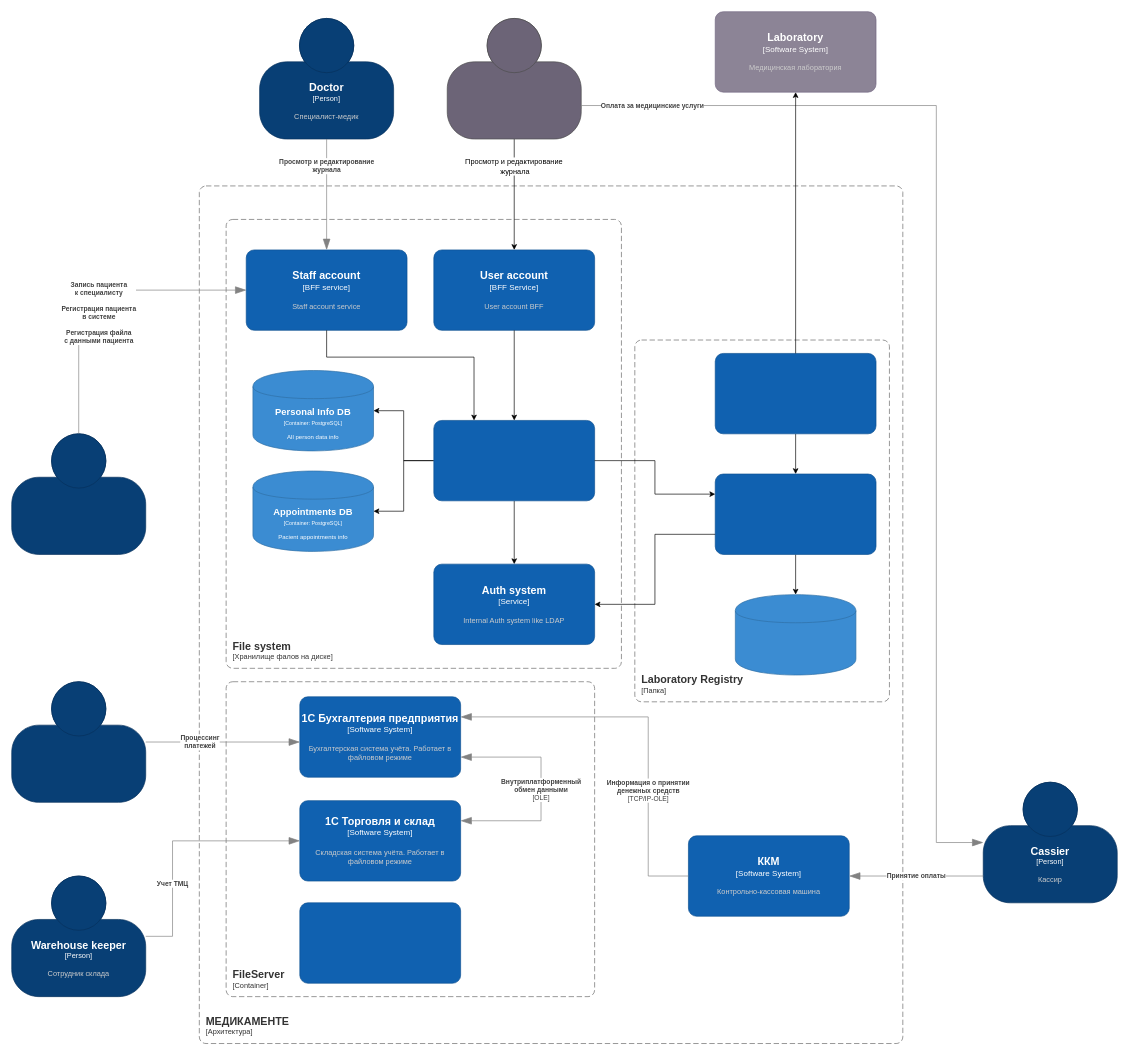
This 1129x1055 diagram has some shape labels left out. The shapes that lost their labels are listed below. From the top down, each one's centre as x and y in pixels, then its label:
At pixel 514 78: "Patient [Person] Пациент".
At pixel 795 393: "Laboratory Adapter [Service] Laboratory API Adapter".
At pixel 514 460: "Personal account [Service] Personal account service".
At pixel 78 493: "Administrator [Person] Сотрудник ресепшена".
At pixel 795 513: "Data Integration Service [Service] Apache NiFi".
At pixel 795 634: "Analysis DB [Container: PostgreSQL] Pacient analysis DB".
At pixel 78 741: "Bookkeeper [Person] Бухгалтер".
At pixel 380 942: "Exchange Mail Server [Software System] Почтовый сервис внутренней почты".
